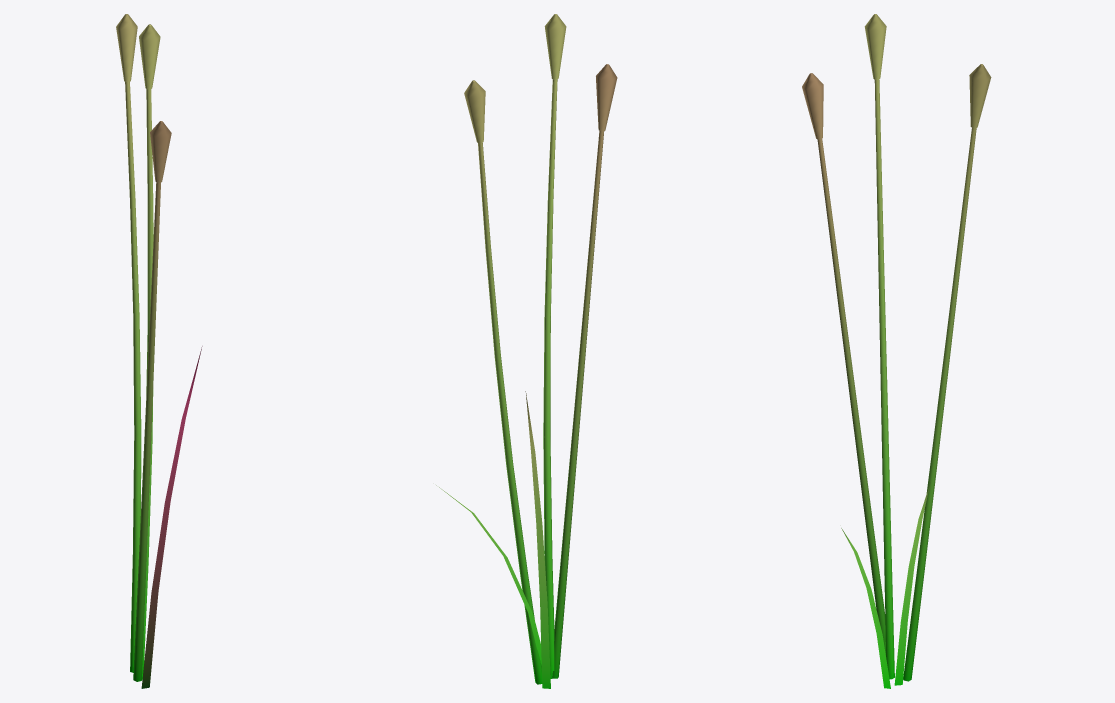
The model's file is reed_a_lod.glb.
3 views of the same model, side by side, from view 1: azimuth 30°, elevation 25°; view 2: azimuth 150°, elevation 25°; view 3: azimuth 270°, elevation 25° (orthographic).
Visible parts, largest first — view 1: Reed_A_LOD; view 2: Reed_A_LOD; view 3: Reed_A_LOD.
Boxes of the visible parts, x1,y1,x2,y2 form: Reed_A_LOD: [116, 14, 202, 688]; Reed_A_LOD: [436, 14, 617, 688]; Reed_A_LOD: [802, 14, 991, 688].
Bounding box in the file's own units: 0.9001 × 2.54 × 1.38.
